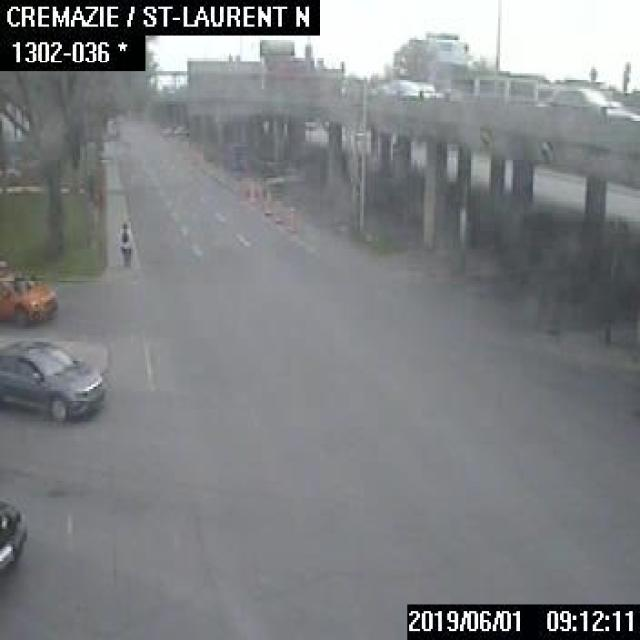construction: (285, 206, 293, 226), (266, 191, 272, 210), (274, 199, 280, 218), (256, 182, 262, 200)
pedestrian: (116, 218, 131, 269)
vehicle: (0, 333, 104, 420), (535, 82, 638, 120), (0, 257, 56, 322), (0, 495, 27, 586), (380, 76, 438, 96)
